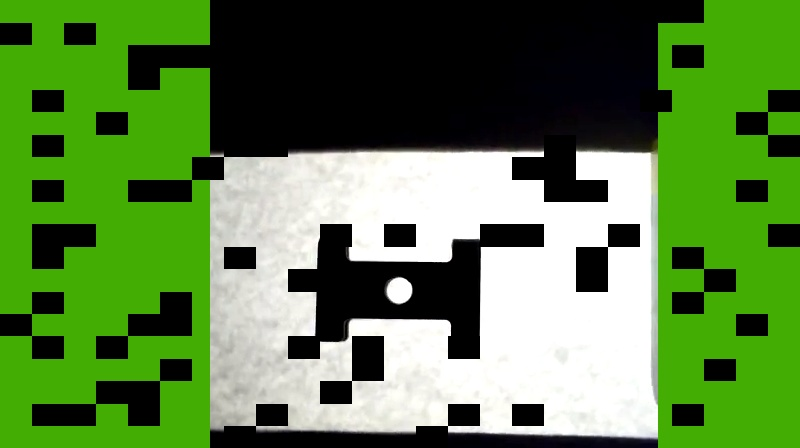O002: (311, 233, 483, 349)
